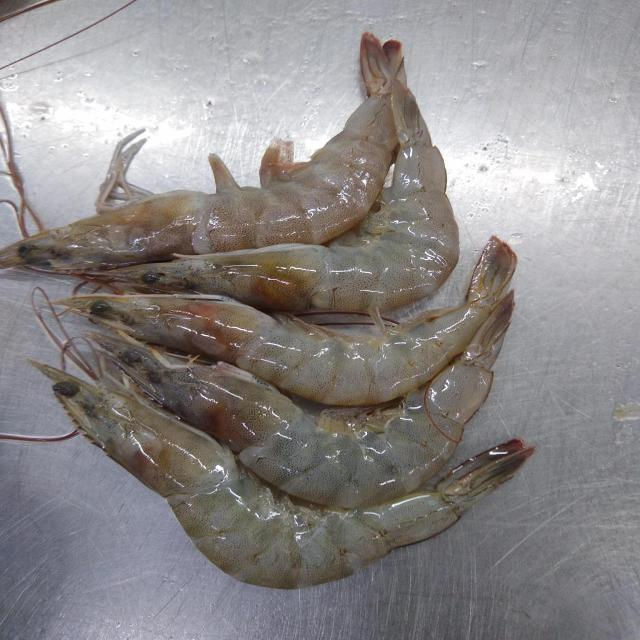shrimp: (32, 361, 465, 589), (0, 34, 403, 272), (98, 82, 458, 311), (58, 238, 515, 406), (93, 329, 500, 509)
